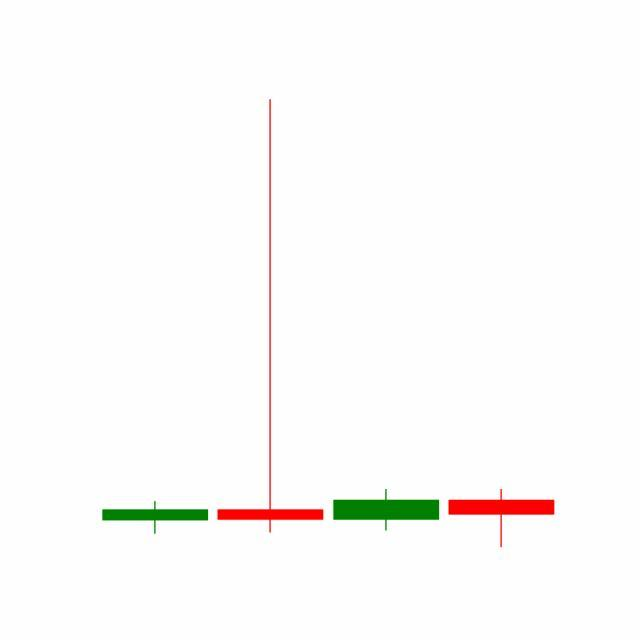Dragonfly Doji: (444, 488, 560, 549)
